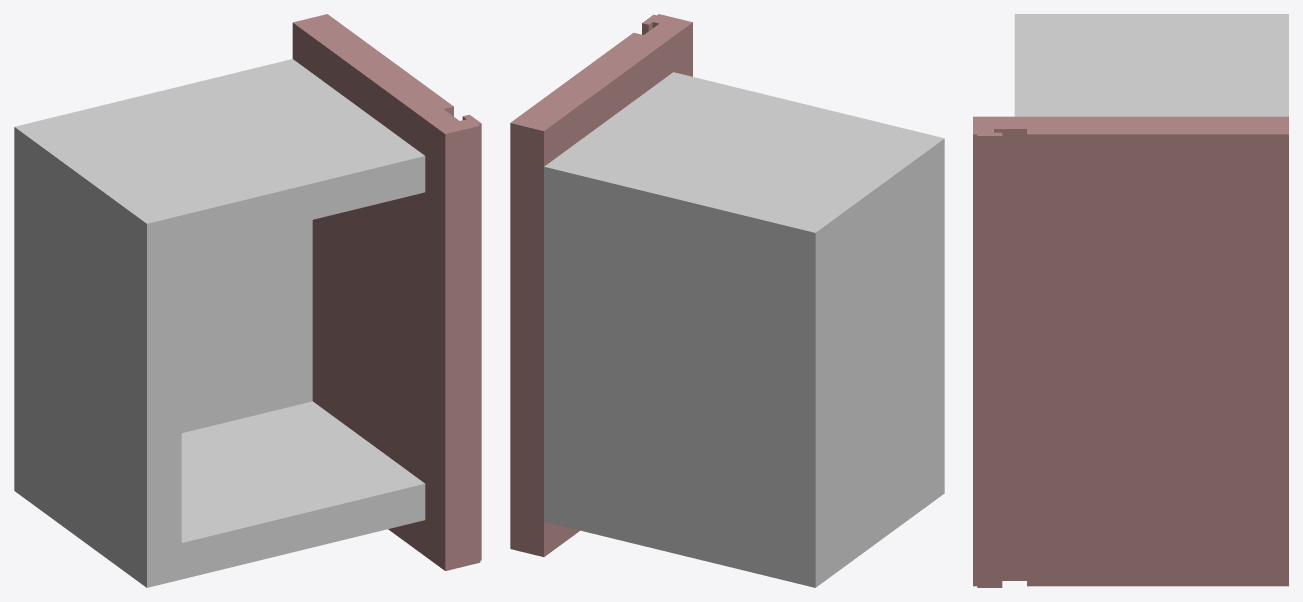
The model's file is ROOM602-FRIDGE-BODYSET5_link_mesh.dae.
3 renders of one model, left to right at view 1: azimuth 30°, elevation 25°; view 2: azimuth 150°, elevation 25°; view 3: azimuth 270°, elevation 25°, orthographic. The views are drawn at different scales.
Visible parts, largest first — view 1: ROOM602-FRIDGE-BODYSET5_link (×2); view 2: ROOM602-FRIDGE-BODYSET5_link (×2); view 3: ROOM602-FRIDGE-BODYSET5_link (×2).
Part boxes in pixels (<box>): ROOM602-FRIDGE-BODYSET5_link (×2): <box>14,14,481,587</box>; ROOM602-FRIDGE-BODYSET5_link (×2): <box>510,14,944,587</box>; ROOM602-FRIDGE-BODYSET5_link (×2): <box>973,14,1288,587</box>.
Bounding box in the file's own units: 0.455 × 0.6 × 0.38.
